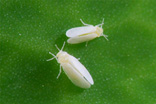whitefly: (47, 44, 95, 91), (65, 18, 109, 47)
